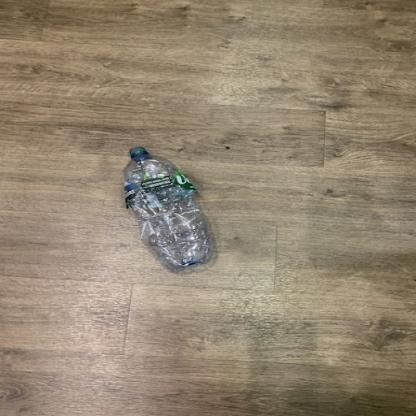trash: (120, 147, 217, 271)
